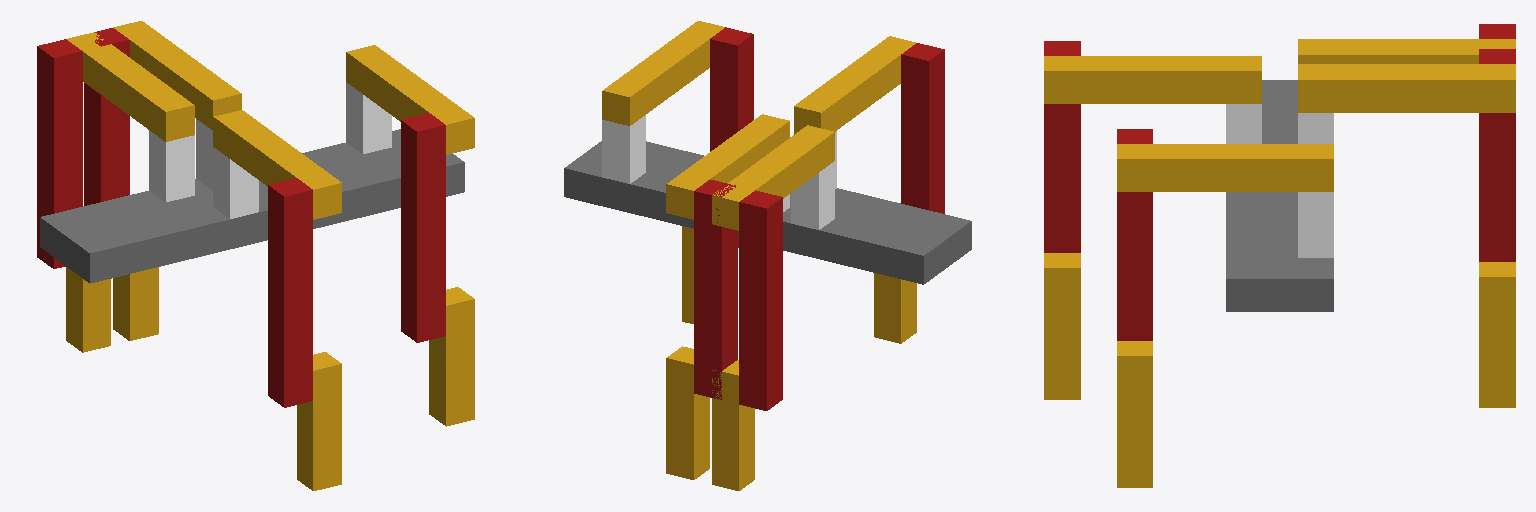
The robot description file, URDF, robot "v0":
<?xml version="1.0" encoding="utf-8"?>
<!-- =================================================================================== -->
<!-- |    This document was autogenerated by xacro from ../robots/v0variants/xacros/v0_4l_11.xacro | -->
<!-- |    EDITING THIS FILE BY HAND IS NOT RECOMMENDED                                 | -->
<!-- =================================================================================== -->
<robot name="v0">
  <material name="grey">
    <color rgba="0.5 0.5 0.5 1"/>
  </material>
  <material name="white">
    <color rgba="1 1 1 1"/>
  </material>
  <material name="yellow">
    <color rgba="0.91 0.7 0.14 1"/>
  </material>
  <material name="red">
    <color rgba="0.71 0.14 0.14 1"/>
  </material>
  <link name="body">
    <visual>
      <geometry>
        <box size="1.3 0.3 0.1"/>
      </geometry>
      <material name="grey"/>
      <origin rpy="0 0 0" xyz="0 0 0.7"/>
    </visual>
    <collision>
      <geometry>
        <box size="1.3 0.3 0.1"/>
      </geometry>
      <origin rpy="0 0 0" xyz="0 0 0.7"/>
    </collision>
    <inertial>
      <mass value="99.84"/>
      <inertia ixx="0.832" ixy="0.0" ixz="0.0" iyy="14.144" iyz="0.0" izz="14.8096"/>
    </inertial>
  </link>
  <link name="l1_segment_1">
    <visual>
      <geometry>
        <box size="0.1 0.1 0.2"/>
      </geometry>
      <material name="white"/>
      <origin rpy="0 0 0" xyz="0 0 0.1"/>
    </visual>
    <collision>
      <geometry>
        <box size="0.1 0.1 0.2"/>
      </geometry>
      <origin rpy="0 0 0" xyz="0 0 0.1"/>
    </collision>
    <inertial>
      <mass value="5.12"/>
      <inertia ixx="0.0213333333333" ixy="0.0" ixz="0.0" iyy="0.0213333333333" iyz="0.0" izz="0.00853333333333"/>
    </inertial>
  </link>
  <joint name="l1_base_to_joint_1" type="fixed">
    <parent link="body"/>
    <child link="l1_segment_1"/>
    <origin rpy="0 0 0" xyz="-0.058041217090857744 0.1 0.75"/>
  </joint>
  <link name="l1_segment_2_HIP">
    <visual>
      <geometry>
        <box size="0.1 0.6 0.1"/>
      </geometry>
      <material name="yellow"/>
      <origin rpy="0 0 0" xyz="0 0.25 0"/>
    </visual>
    <collision>
      <geometry>
        <box size="0.1 0.6 0.1"/>
      </geometry>
      <origin rpy="0 0 0" xyz="0 0.25 0"/>
    </collision>
    <inertial>
      <mass value="15.36"/>
      <inertia ixx="0.4736" ixy="0.0" ixz="0.0" iyy="0.0256" iyz="0.0" izz="0.4736"/>
    </inertial>
  </link>
  <joint name="l1_joint_1_to_2" type="revolute">
    <parent link="l1_segment_1"/>
    <child link="l1_segment_2_HIP"/>
    <origin rpy="0 0 0" xyz="0 0 0.25"/>
    <axis xyz="0.0 0.0 1.0"/>
    <limit effort="2048" lower="-1.2" upper="1.2" velocity="20"/>
  </joint>
  <link name="l1_segment_3_THIGH">
    <visual>
      <geometry>
        <box size="0.1 0.1 0.7"/>
      </geometry>
      <material name="red"/>
      <origin rpy="0 0 0" xyz="0 0 -0.3"/>
    </visual>
    <collision>
      <geometry>
        <box size="0.1 0.1 0.7"/>
      </geometry>
      <origin rpy="0 0 0" xyz="0 0 -0.3"/>
    </collision>
    <inertial>
      <mass value="17.92"/>
      <inertia ixx="0.746666666667" ixy="0.0" ixz="0.0" iyy="0.746666666667" iyz="0.0" izz="0.0298666666667"/>
    </inertial>
  </link>
  <joint name="l1_joint_2_to_3" type="revolute">
    <parent link="l1_segment_2_HIP"/>
    <child link="l1_segment_3_THIGH"/>
    <origin rpy="0 0 0" xyz="-0.1 0.5 0"/>
    <axis xyz="1.0 0.0 0.0"/>
    <limit effort="2048" lower="-0.2" upper="0.75" velocity="20"/>
  </joint>
  <link name="l1_segment_4_FOOT">
    <visual>
      <geometry>
        <box size="0.1 0.1 0.4"/>
      </geometry>
      <material name="yellow"/>
      <origin rpy="0 0 0" xyz="0 0 -0.2"/>
    </visual>
    <collision>
      <geometry>
        <box size="0.1 0.1 0.4"/>
      </geometry>
      <origin rpy="0 0 0" xyz="0 0 -0.2"/>
    </collision>
    <inertial>
      <mass value="10.24"/>
      <inertia ixx="0.145066666667" ixy="0.0" ixz="0.0" iyy="0.145066666667" iyz="0.0" izz="0.0170666666667"/>
    </inertial>
  </link>
  <joint name="l1_joint_3_to_4_FOOT" type="revolute">
    <parent link="l1_segment_3_THIGH"/>
    <child link="l1_segment_4_FOOT"/>
    <origin rpy="0 0 0" xyz="0.1 0 -0.55"/>
    <axis xyz="1.0 0.0 0.0"/>
    <limit effort="2048" lower="-0.2" upper="0.5" velocity="20"/>
  </joint>
  <link name="r2_segment_1">
    <visual>
      <geometry>
        <box size="0.1 0.1 0.2"/>
      </geometry>
      <material name="white"/>
      <origin rpy="0 0 0" xyz="0 0 0.1"/>
    </visual>
    <collision>
      <geometry>
        <box size="0.1 0.1 0.2"/>
      </geometry>
      <origin rpy="0 0 0" xyz="0 0 0.1"/>
    </collision>
    <inertial>
      <mass value="5.12"/>
      <inertia ixx="0.0213333333333" ixy="0.0" ixz="0.0" iyy="0.0213333333333" iyz="0.0" izz="0.00853333333333"/>
    </inertial>
  </link>
  <joint name="r2_base_to_joint_1" type="fixed">
    <parent link="body"/>
    <child link="r2_segment_1"/>
    <origin rpy="0 0 0" xyz="0.4620956867900071 0.1 0.75"/>
  </joint>
  <link name="r2_segment_2_HIP">
    <visual>
      <geometry>
        <box size="0.1 0.6 0.1"/>
      </geometry>
      <material name="yellow"/>
      <origin rpy="0 0 0" xyz="0 -0.25 0"/>
    </visual>
    <collision>
      <geometry>
        <box size="0.1 0.6 0.1"/>
      </geometry>
      <origin rpy="0 0 0" xyz="0 -0.25 0"/>
    </collision>
    <inertial>
      <mass value="15.36"/>
      <inertia ixx="0.4736" ixy="0.0" ixz="0.0" iyy="0.0256" iyz="0.0" izz="0.4736"/>
    </inertial>
  </link>
  <joint name="r2_joint_1_to_2" type="revolute">
    <parent link="r2_segment_1"/>
    <child link="r2_segment_2_HIP"/>
    <origin rpy="0 0 0" xyz="0 0 0.25"/>
    <axis xyz="0.0 0.0 1.0"/>
    <limit effort="2048" lower="-1.2" upper="1.2" velocity="20"/>
  </joint>
  <link name="r2_segment_3_THIGH">
    <visual>
      <geometry>
        <box size="0.1 0.1 0.7"/>
      </geometry>
      <material name="red"/>
      <origin rpy="0 0 0" xyz="0 0 -0.3"/>
    </visual>
    <collision>
      <geometry>
        <box size="0.1 0.1 0.7"/>
      </geometry>
      <origin rpy="0 0 0" xyz="0 0 -0.3"/>
    </collision>
    <inertial>
      <mass value="17.92"/>
      <inertia ixx="0.746666666667" ixy="0.0" ixz="0.0" iyy="0.746666666667" iyz="0.0" izz="0.0298666666667"/>
    </inertial>
  </link>
  <joint name="r2_joint_2_to_3" type="revolute">
    <parent link="r2_segment_2_HIP"/>
    <child link="r2_segment_3_THIGH"/>
    <origin rpy="0 0 0" xyz="-0.1 -0.5 0"/>
    <axis xyz="1.0 0.0 0.0"/>
    <limit effort="2048" lower="-0.75" upper="0.2" velocity="20"/>
  </joint>
  <link name="r2_segment_4_FOOT">
    <visual>
      <geometry>
        <box size="0.1 0.1 0.4"/>
      </geometry>
      <material name="yellow"/>
      <origin rpy="0 0 0" xyz="0 0 -0.2"/>
    </visual>
    <collision>
      <geometry>
        <box size="0.1 0.1 0.4"/>
      </geometry>
      <origin rpy="0 0 0" xyz="0 0 -0.2"/>
    </collision>
    <inertial>
      <mass value="10.24"/>
      <inertia ixx="0.145066666667" ixy="0.0" ixz="0.0" iyy="0.145066666667" iyz="0.0" izz="0.0170666666667"/>
    </inertial>
  </link>
  <joint name="r2_joint_3_to_4_FOOT" type="revolute">
    <parent link="r2_segment_3_THIGH"/>
    <child link="r2_segment_4_FOOT"/>
    <origin rpy="0 0 0" xyz="0.1 0 -0.55"/>
    <axis xyz="1.0 0.0 0.0"/>
    <limit effort="2048" lower="-0.5" upper="0.2" velocity="20"/>
  </joint>
  <link name="l3_segment_1">
    <visual>
      <geometry>
        <box size="0.1 0.1 0.2"/>
      </geometry>
      <material name="white"/>
      <origin rpy="0 0 0" xyz="0 0 0.1"/>
    </visual>
    <collision>
      <geometry>
        <box size="0.1 0.1 0.2"/>
      </geometry>
      <origin rpy="0 0 0" xyz="0 0 0.1"/>
    </collision>
    <inertial>
      <mass value="5.12"/>
      <inertia ixx="0.0213333333333" ixy="0.0" ixz="0.0" iyy="0.0213333333333" iyz="0.0" izz="0.00853333333333"/>
    </inertial>
  </link>
  <joint name="l3_base_to_joint_1" type="fixed">
    <parent link="body"/>
    <child link="l3_segment_1"/>
    <origin rpy="0 0 0" xyz="-0.2214519877747222 0.1 0.75"/>
  </joint>
  <link name="l3_segment_2_HIP">
    <visual>
      <geometry>
        <box size="0.1 0.6 0.1"/>
      </geometry>
      <material name="yellow"/>
      <origin rpy="0 0 0" xyz="0 0.25 0"/>
    </visual>
    <collision>
      <geometry>
        <box size="0.1 0.6 0.1"/>
      </geometry>
      <origin rpy="0 0 0" xyz="0 0.25 0"/>
    </collision>
    <inertial>
      <mass value="15.36"/>
      <inertia ixx="0.4736" ixy="0.0" ixz="0.0" iyy="0.0256" iyz="0.0" izz="0.4736"/>
    </inertial>
  </link>
  <joint name="l3_joint_1_to_2" type="revolute">
    <parent link="l3_segment_1"/>
    <child link="l3_segment_2_HIP"/>
    <origin rpy="0 0 0" xyz="0 0 0.25"/>
    <axis xyz="0.0 0.0 1.0"/>
    <limit effort="2048" lower="-1.2" upper="1.2" velocity="20"/>
  </joint>
  <link name="l3_segment_3_THIGH">
    <visual>
      <geometry>
        <box size="0.1 0.1 0.7"/>
      </geometry>
      <material name="red"/>
      <origin rpy="0 0 0" xyz="0 0 -0.3"/>
    </visual>
    <collision>
      <geometry>
        <box size="0.1 0.1 0.7"/>
      </geometry>
      <origin rpy="0 0 0" xyz="0 0 -0.3"/>
    </collision>
    <inertial>
      <mass value="17.92"/>
      <inertia ixx="0.746666666667" ixy="0.0" ixz="0.0" iyy="0.746666666667" iyz="0.0" izz="0.0298666666667"/>
    </inertial>
  </link>
  <joint name="l3_joint_2_to_3" type="revolute">
    <parent link="l3_segment_2_HIP"/>
    <child link="l3_segment_3_THIGH"/>
    <origin rpy="0 0 0" xyz="-0.1 0.5 0"/>
    <axis xyz="1.0 0.0 0.0"/>
    <limit effort="2048" lower="-0.2" upper="0.75" velocity="20"/>
  </joint>
  <link name="l3_segment_4_FOOT">
    <visual>
      <geometry>
        <box size="0.1 0.1 0.4"/>
      </geometry>
      <material name="yellow"/>
      <origin rpy="0 0 0" xyz="0 0 -0.2"/>
    </visual>
    <collision>
      <geometry>
        <box size="0.1 0.1 0.4"/>
      </geometry>
      <origin rpy="0 0 0" xyz="0 0 -0.2"/>
    </collision>
    <inertial>
      <mass value="10.24"/>
      <inertia ixx="0.145066666667" ixy="0.0" ixz="0.0" iyy="0.145066666667" iyz="0.0" izz="0.0170666666667"/>
    </inertial>
  </link>
  <joint name="l3_joint_3_to_4_FOOT" type="revolute">
    <parent link="l3_segment_3_THIGH"/>
    <child link="l3_segment_4_FOOT"/>
    <origin rpy="0 0 0" xyz="0.1 0 -0.55"/>
    <axis xyz="1.0 0.0 0.0"/>
    <limit effort="2048" lower="-0.2" upper="0.5" velocity="20"/>
  </joint>
  <link name="r4_segment_1">
    <visual>
      <geometry>
        <box size="0.1 0.1 0.2"/>
      </geometry>
      <material name="white"/>
      <origin rpy="0 0 0" xyz="0 0 0.1"/>
    </visual>
    <collision>
      <geometry>
        <box size="0.1 0.1 0.2"/>
      </geometry>
      <origin rpy="0 0 0" xyz="0 0 0.1"/>
    </collision>
    <inertial>
      <mass value="5.12"/>
      <inertia ixx="0.0213333333333" ixy="0.0" ixz="0.0" iyy="0.0213333333333" iyz="0.0" izz="0.00853333333333"/>
    </inertial>
  </link>
  <joint name="r4_base_to_joint_1" type="fixed">
    <parent link="body"/>
    <child link="r4_segment_1"/>
    <origin rpy="0 0 0" xyz="-0.11406082844944365 -0.1 0.75"/>
  </joint>
  <link name="r4_segment_2_HIP">
    <visual>
      <geometry>
        <box size="0.1 0.6 0.1"/>
      </geometry>
      <material name="yellow"/>
      <origin rpy="0 0 0" xyz="0 -0.25 0"/>
    </visual>
    <collision>
      <geometry>
        <box size="0.1 0.6 0.1"/>
      </geometry>
      <origin rpy="0 0 0" xyz="0 -0.25 0"/>
    </collision>
    <inertial>
      <mass value="15.36"/>
      <inertia ixx="0.4736" ixy="0.0" ixz="0.0" iyy="0.0256" iyz="0.0" izz="0.4736"/>
    </inertial>
  </link>
  <joint name="r4_joint_1_to_2" type="revolute">
    <parent link="r4_segment_1"/>
    <child link="r4_segment_2_HIP"/>
    <origin rpy="0 0 0" xyz="0 0 0.25"/>
    <axis xyz="0.0 0.0 1.0"/>
    <limit effort="2048" lower="-1.2" upper="1.2" velocity="20"/>
  </joint>
  <link name="r4_segment_3_THIGH">
    <visual>
      <geometry>
        <box size="0.1 0.1 0.7"/>
      </geometry>
      <material name="red"/>
      <origin rpy="0 0 0" xyz="0 0 -0.3"/>
    </visual>
    <collision>
      <geometry>
        <box size="0.1 0.1 0.7"/>
      </geometry>
      <origin rpy="0 0 0" xyz="0 0 -0.3"/>
    </collision>
    <inertial>
      <mass value="17.92"/>
      <inertia ixx="0.746666666667" ixy="0.0" ixz="0.0" iyy="0.746666666667" iyz="0.0" izz="0.0298666666667"/>
    </inertial>
  </link>
  <joint name="r4_joint_2_to_3" type="revolute">
    <parent link="r4_segment_2_HIP"/>
    <child link="r4_segment_3_THIGH"/>
    <origin rpy="0 0 0" xyz="-0.1 -0.5 0"/>
    <axis xyz="1.0 0.0 0.0"/>
    <limit effort="2048" lower="-0.75" upper="0.2" velocity="20"/>
  </joint>
  <link name="r4_segment_4_FOOT">
    <visual>
      <geometry>
        <box size="0.1 0.1 0.4"/>
      </geometry>
      <material name="yellow"/>
      <origin rpy="0 0 0" xyz="0 0 -0.2"/>
    </visual>
    <collision>
      <geometry>
        <box size="0.1 0.1 0.4"/>
      </geometry>
      <origin rpy="0 0 0" xyz="0 0 -0.2"/>
    </collision>
    <inertial>
      <mass value="10.24"/>
      <inertia ixx="0.145066666667" ixy="0.0" ixz="0.0" iyy="0.145066666667" iyz="0.0" izz="0.0170666666667"/>
    </inertial>
  </link>
  <joint name="r4_joint_3_to_4_FOOT" type="revolute">
    <parent link="r4_segment_3_THIGH"/>
    <child link="r4_segment_4_FOOT"/>
    <origin rpy="0 0 0" xyz="0.1 0 -0.55"/>
    <axis xyz="1.0 0.0 0.0"/>
    <limit effort="2048" lower="-0.5" upper="0.2" velocity="20"/>
  </joint>
</robot>

--- What the picture shows (computed from the rendered views, not written in the file) ---
3 views of the same robot in one strip: view 1: azimuth 30°, elevation 25°; view 2: azimuth 150°, elevation 25°; view 3: azimuth 270°, elevation 25° (orthographic).
Model v0 with 17 links and 16 joints (12 revolute, 4 fixed), rooted at body, posed every joint at zero.
Visible links, largest first — view 1: body, r2_segment_3_THIGH, r4_segment_3_THIGH, l3_segment_3_THIGH, l3_segment_2_HIP, r4_segment_2_HIP, r2_segment_2_HIP, r2_segment_4_FOOT, l1_segment_3_THIGH, r4_segment_4_FOOT, l1_segment_2_HIP, l3_segment_4_FOOT (+5 smaller); view 2: body, l3_segment_3_THIGH, l1_segment_3_THIGH, r4_segment_3_THIGH, r2_segment_2_HIP, r4_segment_2_HIP, l3_segment_2_HIP, l1_segment_4_FOOT, l1_segment_2_HIP, r2_segment_3_THIGH, l3_segment_4_FOOT, r4_segment_4_FOOT (+3 smaller); view 3: body, l1_segment_2_HIP, r4_segment_2_HIP, r2_segment_2_HIP, l1_segment_3_THIGH, r4_segment_3_THIGH, r2_segment_3_THIGH, r4_segment_4_FOOT, l1_segment_4_FOOT, r2_segment_4_FOOT, l3_segment_2_HIP, r2_segment_1 (+3 smaller).
Boxes of the visible links, x1,y1,x2,y2 form: body: (40, 129, 464, 283); r2_segment_3_THIGH: (401, 113, 445, 342); r4_segment_3_THIGH: (268, 178, 312, 407); l3_segment_3_THIGH: (37, 39, 82, 268); l3_segment_2_HIP: (67, 32, 194, 141); r4_segment_2_HIP: (213, 110, 341, 219); r2_segment_2_HIP: (346, 45, 474, 154); r2_segment_4_FOOT: (429, 287, 474, 426); l1_segment_3_THIGH: (84, 28, 129, 205); r4_segment_4_FOOT: (297, 352, 341, 490); l1_segment_2_HIP: (113, 21, 241, 129); l3_segment_4_FOOT: (66, 267, 110, 352); body: (564, 141, 971, 284); l3_segment_3_THIGH: (739, 190, 782, 410); l1_segment_3_THIGH: (694, 179, 737, 399); r4_segment_3_THIGH: (901, 43, 944, 213); r2_segment_2_HIP: (602, 21, 724, 125); r4_segment_2_HIP: (794, 36, 915, 134); l3_segment_2_HIP: (712, 125, 834, 230); l1_segment_4_FOOT: (666, 346, 709, 479); l1_segment_2_HIP: (666, 114, 789, 219); r2_segment_3_THIGH: (710, 27, 753, 247); l3_segment_4_FOOT: (712, 360, 754, 490); r4_segment_4_FOOT: (874, 273, 916, 343); body: (1226, 80, 1333, 311); l1_segment_2_HIP: (1298, 64, 1515, 112); r4_segment_2_HIP: (1044, 56, 1261, 103); r2_segment_2_HIP: (1117, 144, 1333, 191); l1_segment_3_THIGH: (1479, 49, 1515, 261); r4_segment_3_THIGH: (1044, 41, 1080, 252); r2_segment_3_THIGH: (1117, 129, 1152, 340); r4_segment_4_FOOT: (1044, 253, 1080, 399); l1_segment_4_FOOT: (1479, 262, 1515, 407); r2_segment_4_FOOT: (1117, 341, 1152, 487); l3_segment_2_HIP: (1298, 39, 1515, 63); r2_segment_1: (1298, 192, 1333, 257).
Size in the robot's own frame: 1.3 by 1.3 by 1 metres.
Geometry: primitives only (box / cylinder / sphere), no mesh files.